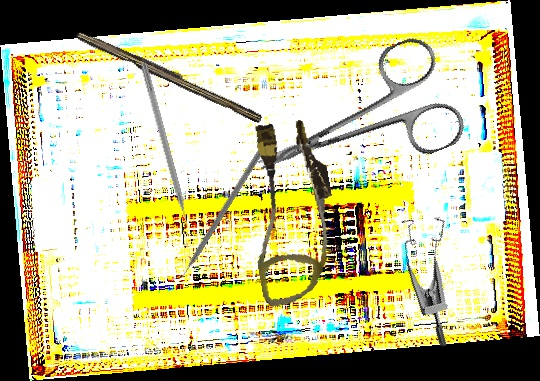Cannula: (233, 114, 350, 309)
Chopper: (167, 145, 264, 287), (131, 61, 193, 239)
Iris Scissors: (234, 31, 471, 216)
Scalpel Handle: (73, 27, 266, 124)
Speculum: (378, 203, 497, 349)
